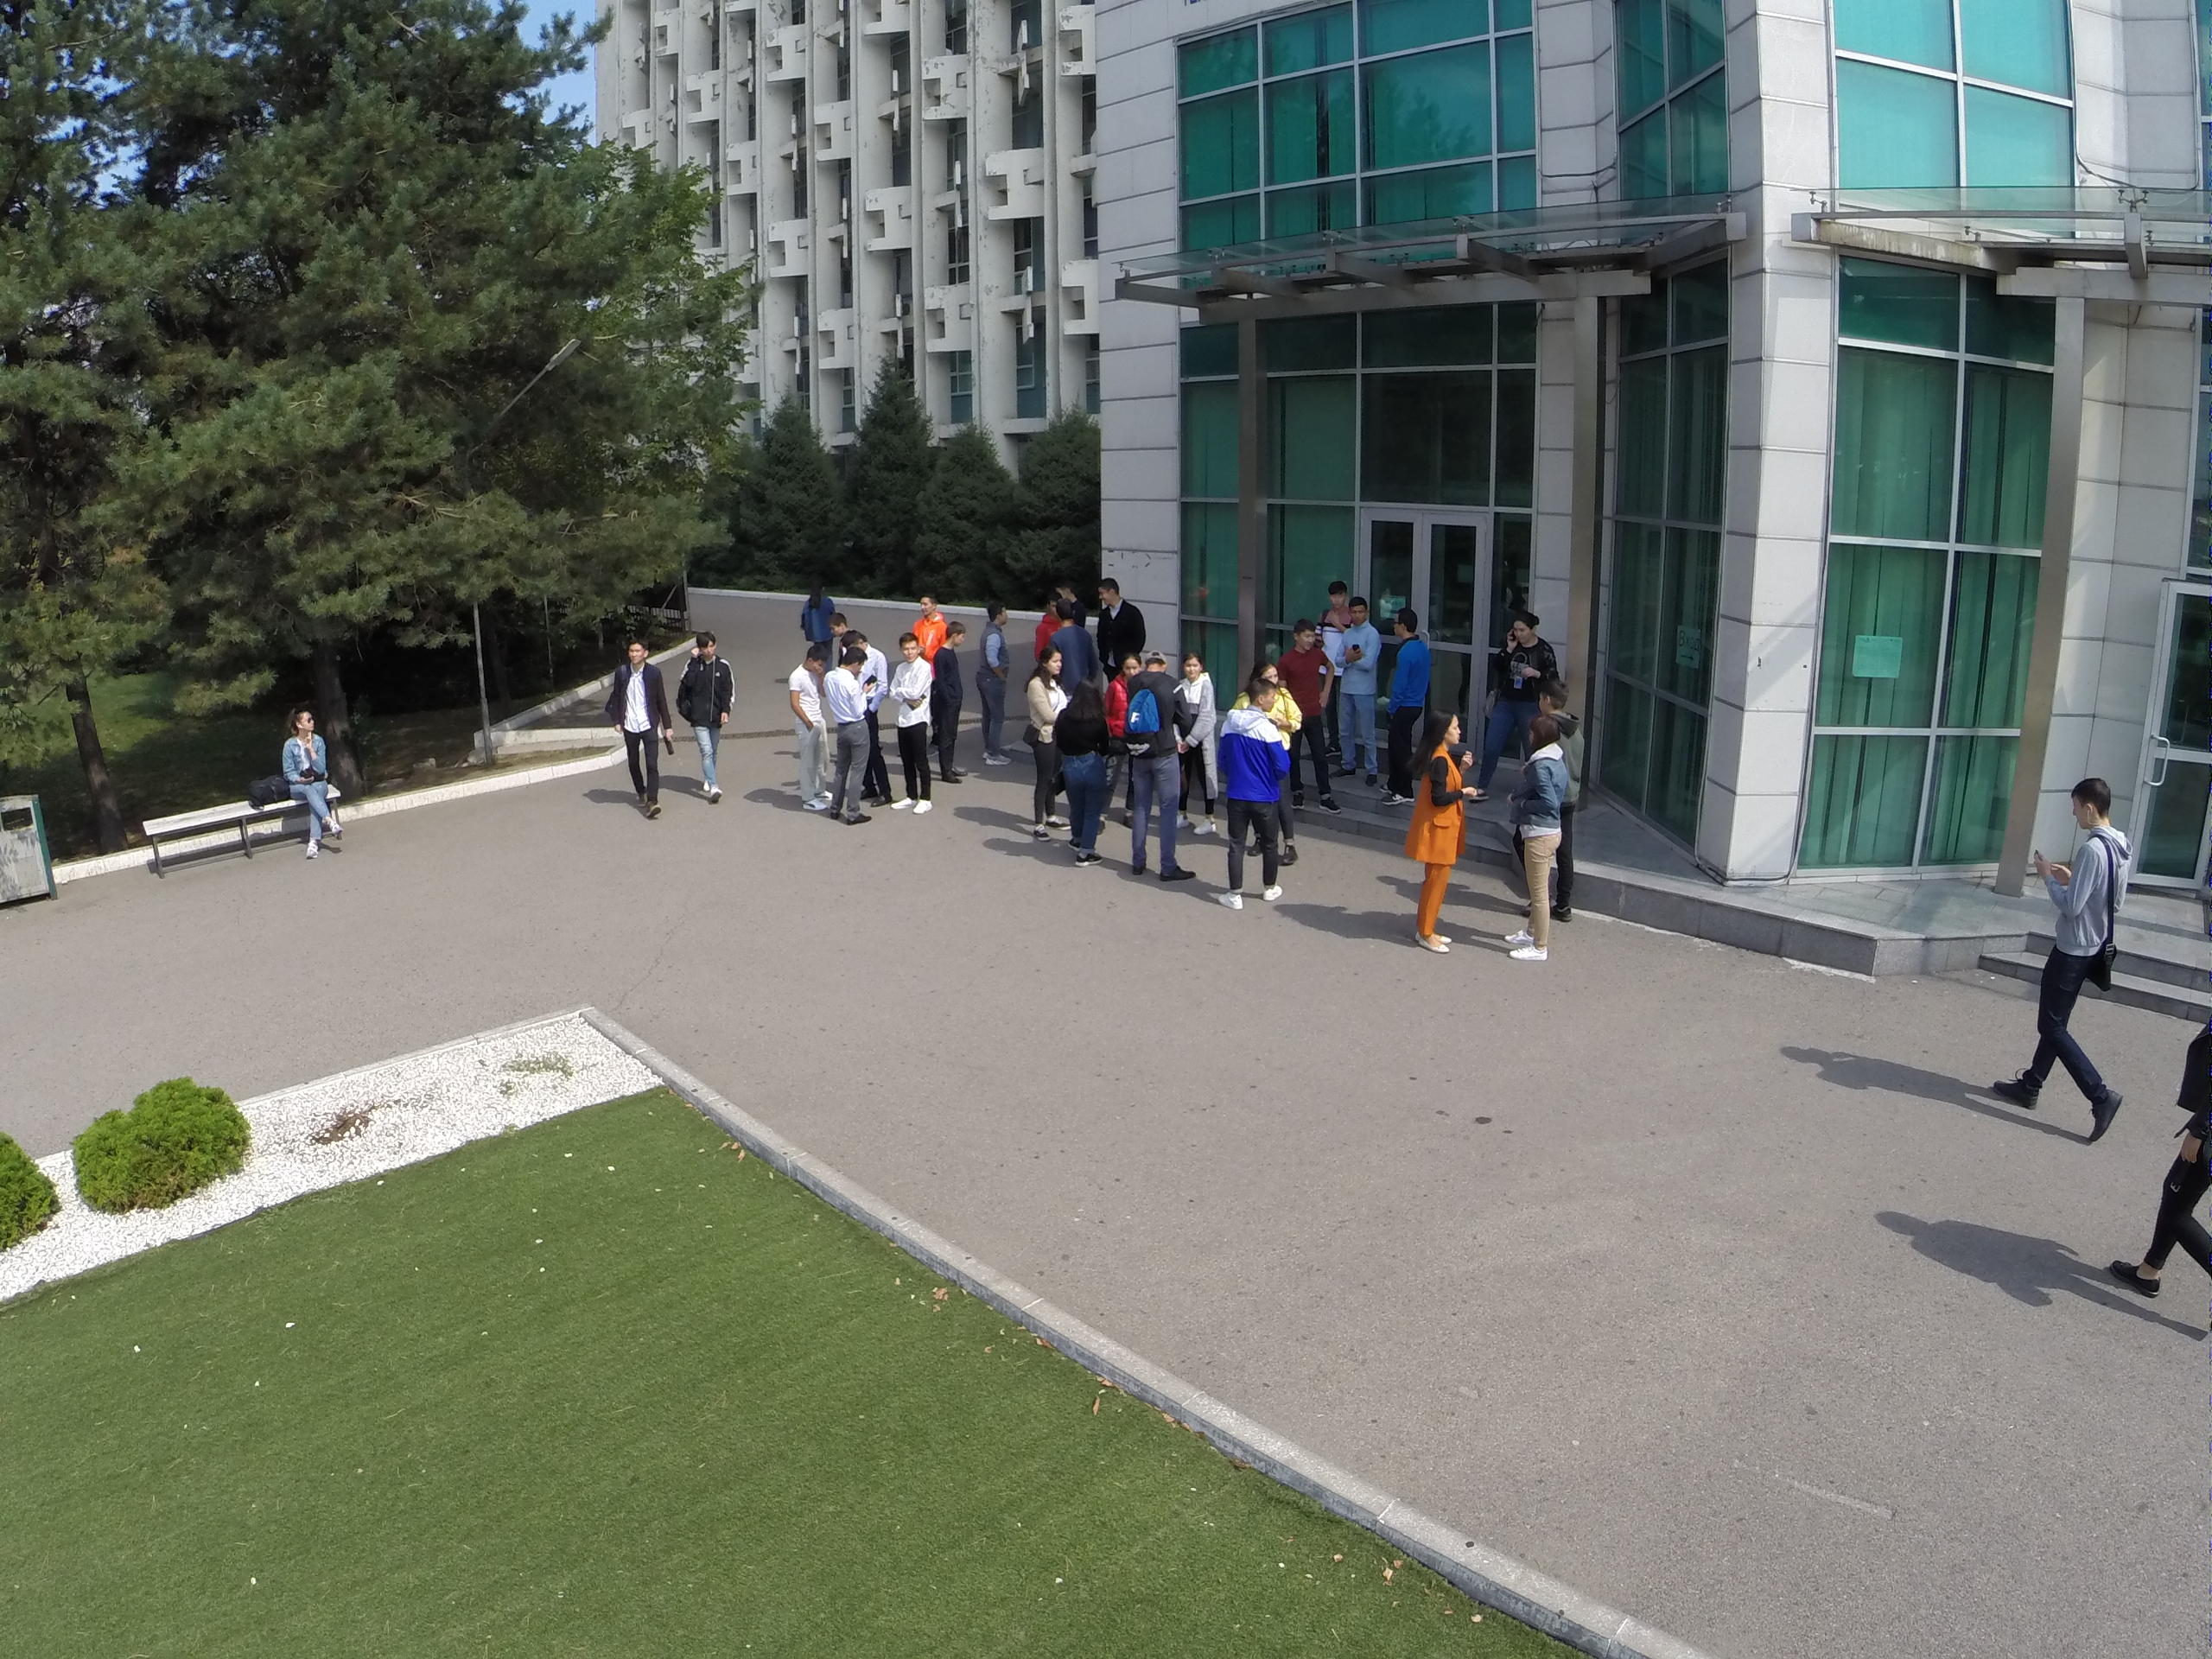person: (2016, 772, 2133, 1090), (1402, 708, 1474, 957), (1125, 648, 1198, 890), (1206, 682, 1285, 906), (1471, 608, 1548, 804), (1510, 709, 1568, 961), (1277, 620, 1344, 818), (1019, 642, 1072, 848), (618, 643, 676, 823), (1382, 609, 1432, 816), (1056, 676, 1107, 874), (686, 632, 742, 810), (889, 632, 939, 817), (283, 704, 341, 861), (1341, 594, 1384, 785), (828, 651, 872, 829), (1180, 651, 1221, 837), (976, 599, 1016, 772), (789, 647, 828, 813), (934, 621, 969, 786), (1094, 580, 1141, 650), (915, 594, 939, 658)
